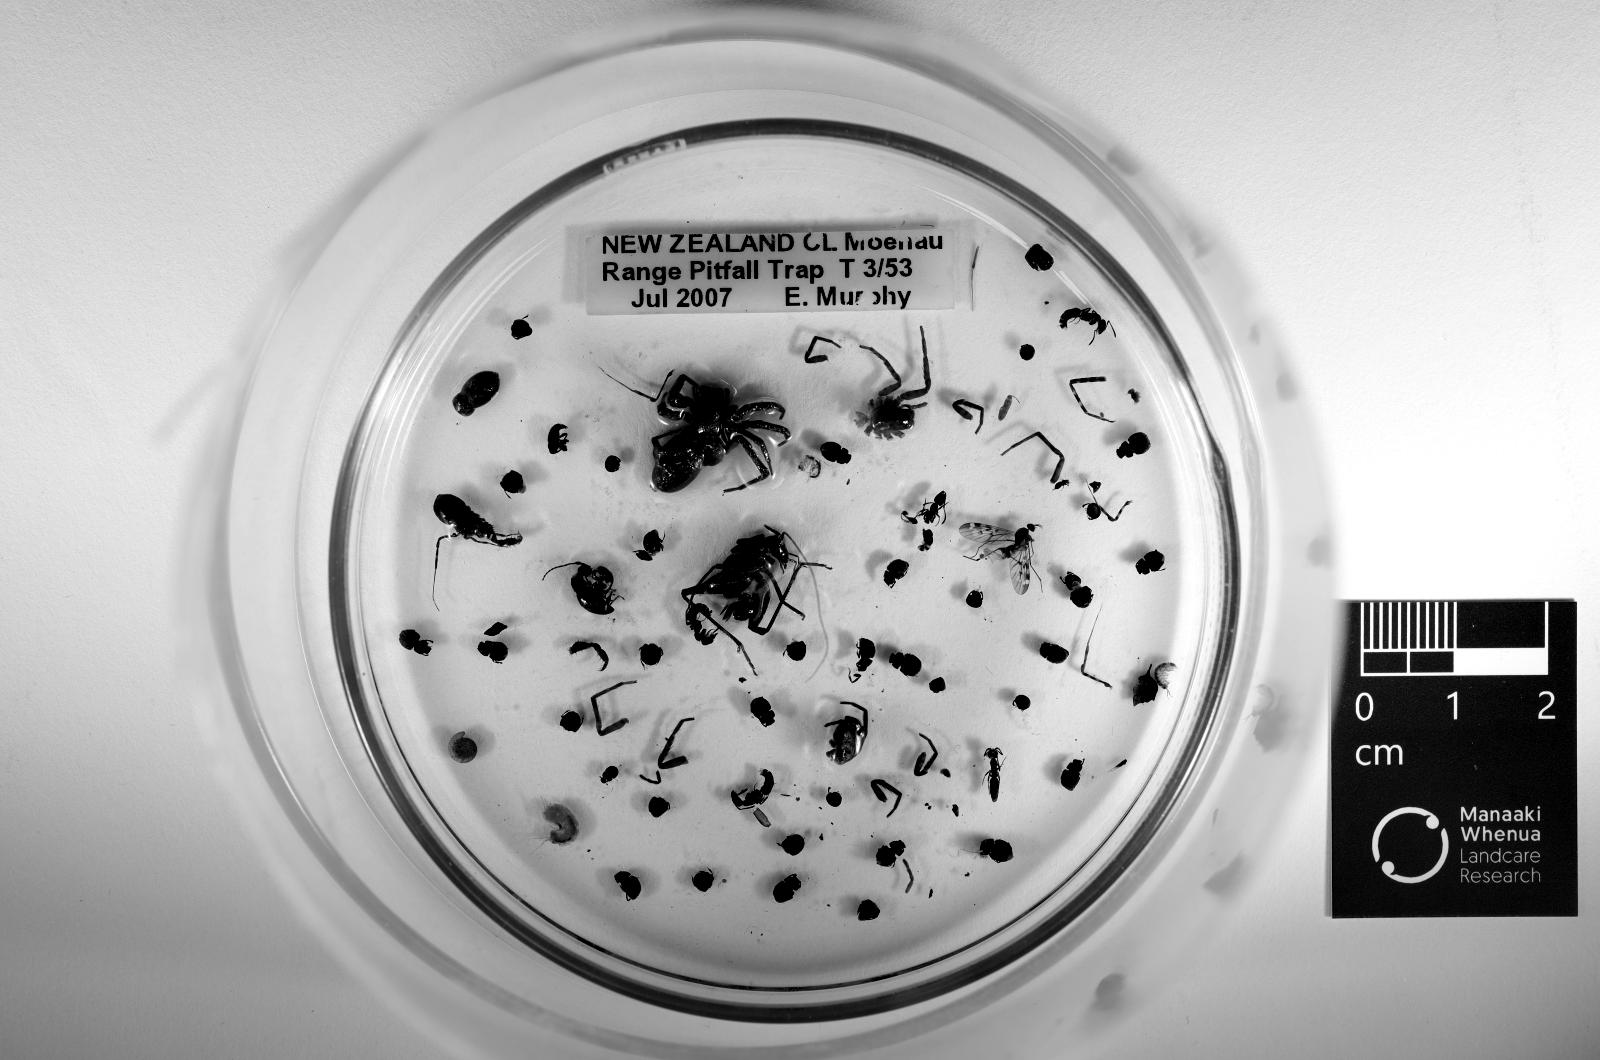amphipoda: (544, 804, 578, 845)
araneae: (650, 373, 791, 494), (853, 329, 931, 441), (825, 702, 869, 764)
coleoptera: (556, 562, 612, 615), (453, 373, 500, 416), (1062, 571, 1094, 609), (1116, 432, 1150, 460), (875, 838, 906, 866), (978, 838, 1012, 863), (888, 652, 922, 677), (1134, 550, 1166, 575), (772, 876, 800, 904), (400, 630, 431, 655), (616, 870, 641, 901), (1059, 761, 1084, 792), (884, 559, 909, 587), (822, 441, 850, 466), (478, 640, 506, 665), (750, 699, 775, 727), (547, 422, 569, 453), (1038, 643, 1069, 665), (856, 640, 875, 674), (600, 767, 619, 783)
diptera: (959, 522, 1038, 593)
formicidae: (731, 770, 775, 811), (684, 599, 722, 646), (1059, 307, 1109, 338), (903, 491, 947, 525), (984, 748, 1003, 801)
gastropoda: (450, 733, 478, 764)
isopoda: (1153, 661, 1178, 689)
opiliones: (434, 494, 522, 578)
orthoptera: (681, 528, 828, 674)
